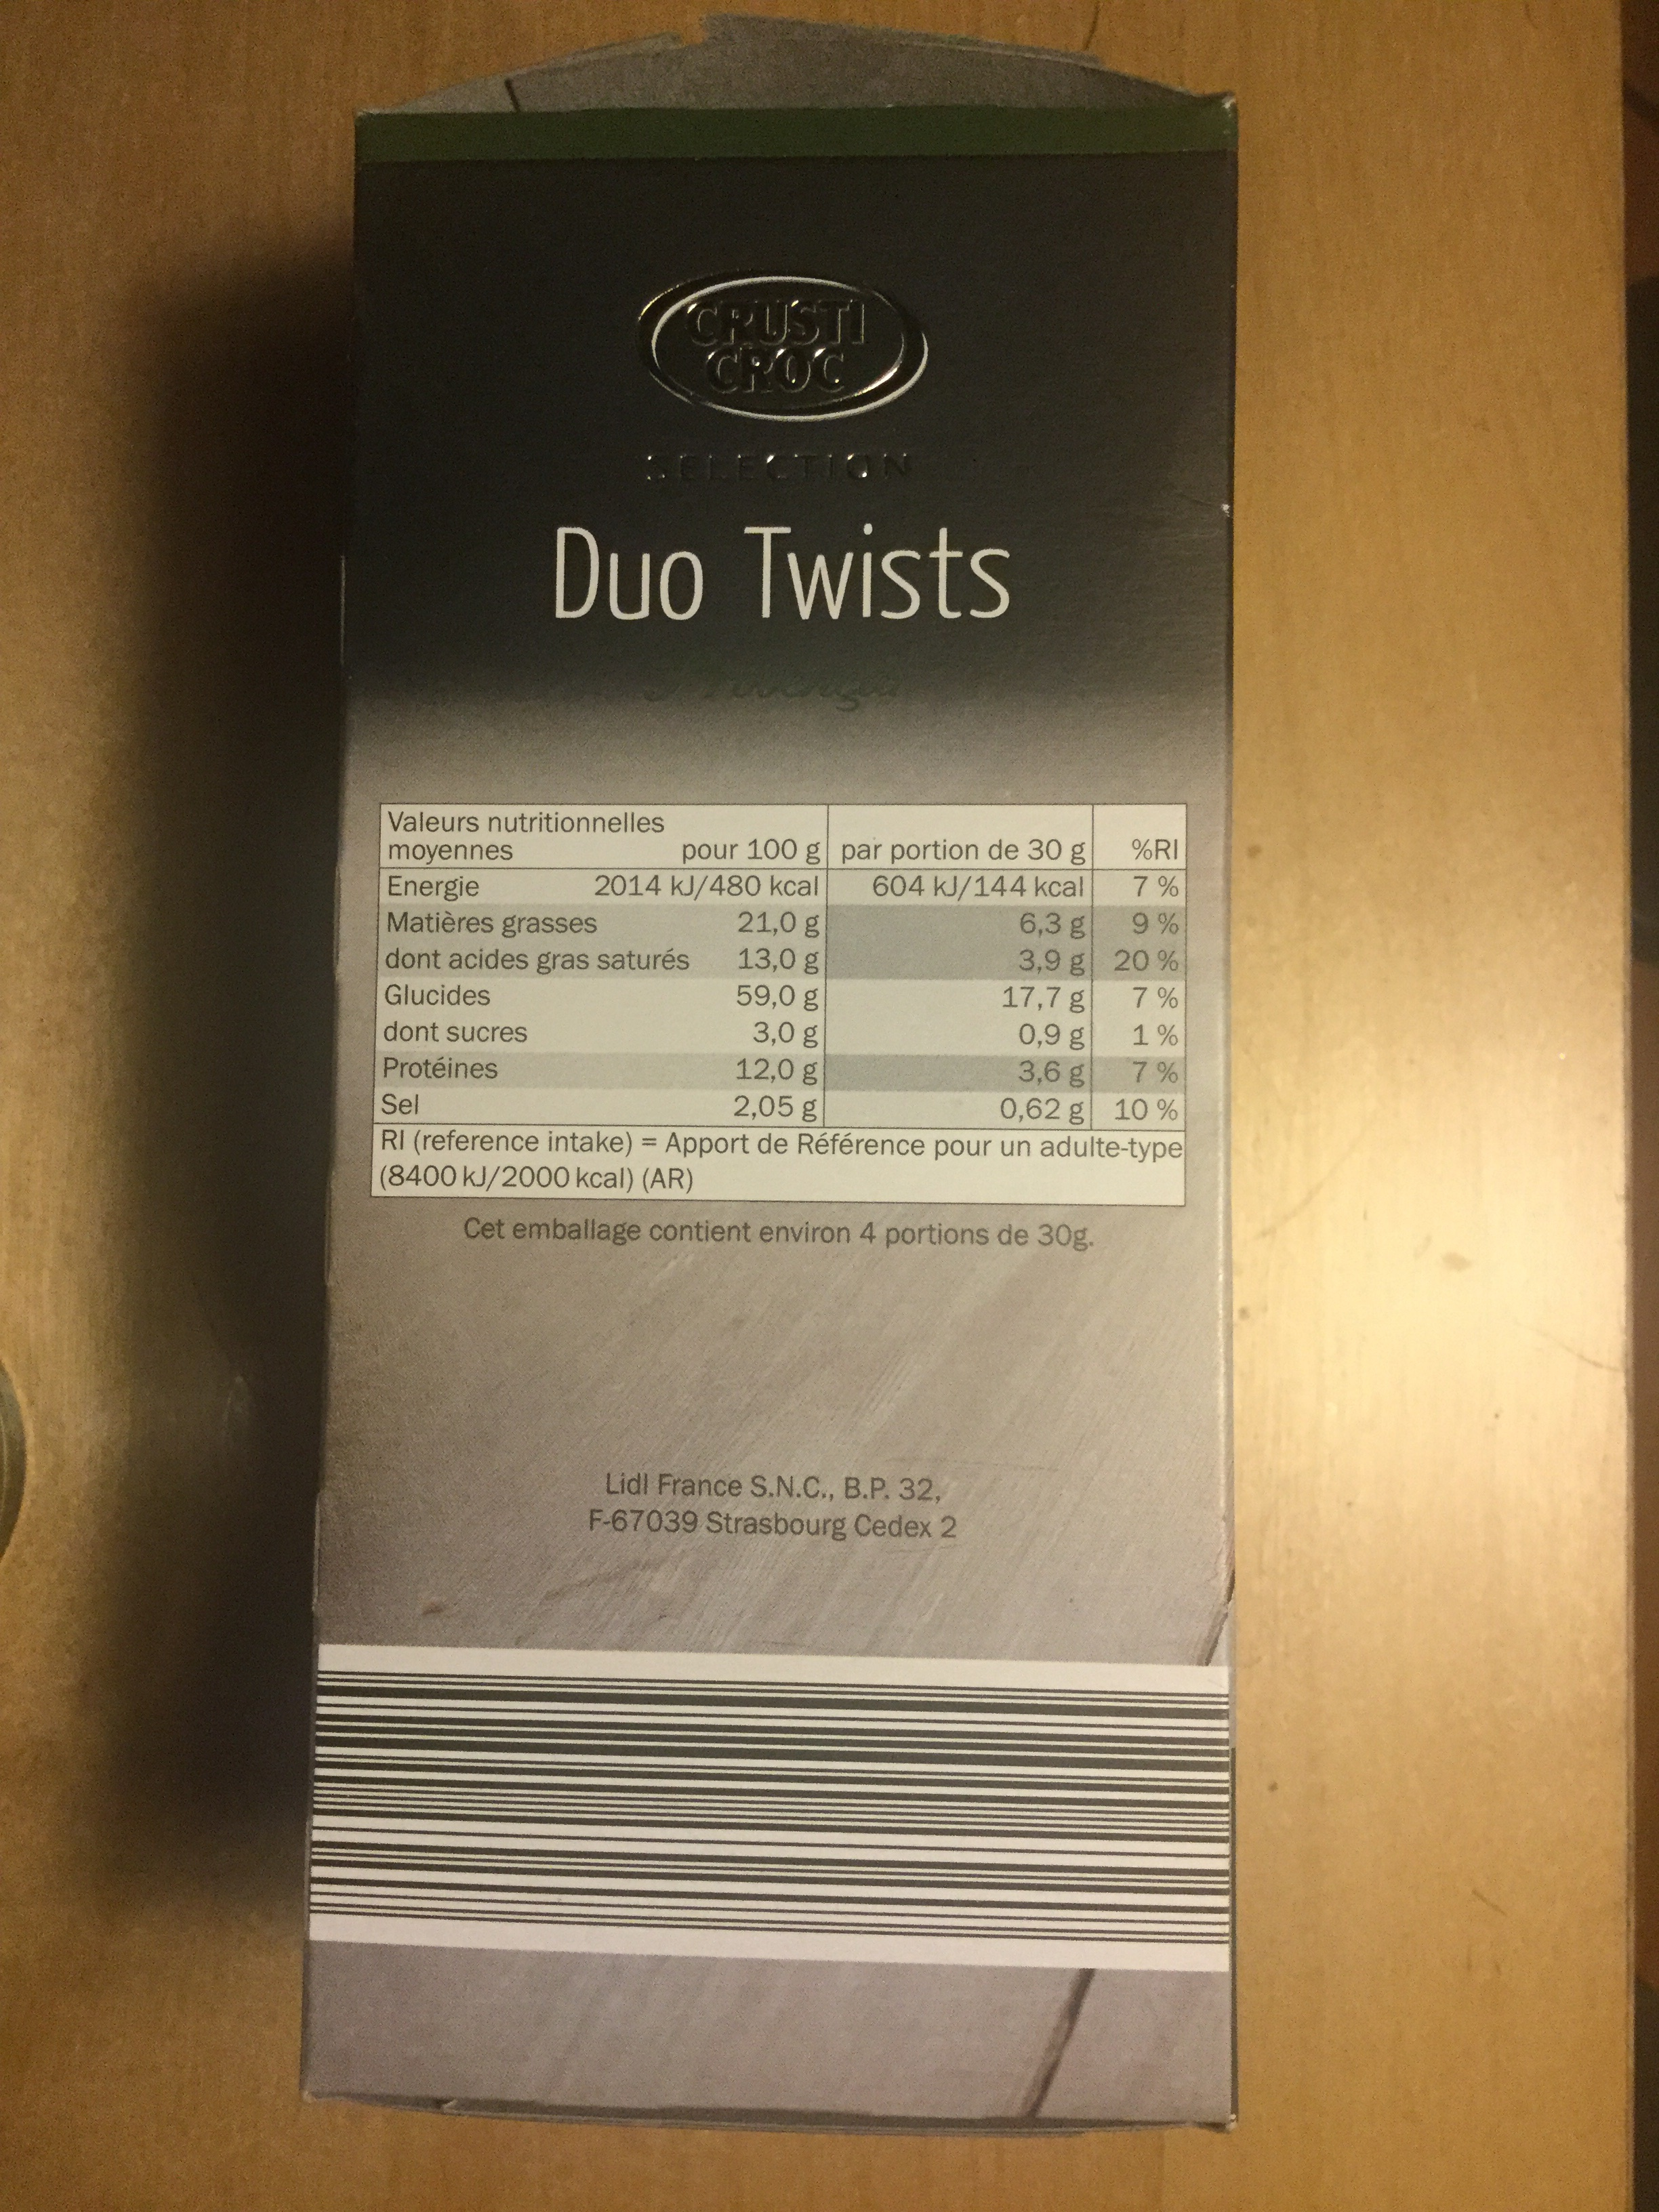column: (385, 808, 823, 1127), (838, 831, 1089, 1127), (1114, 833, 1183, 1123)
table: (369, 801, 1197, 1130)
